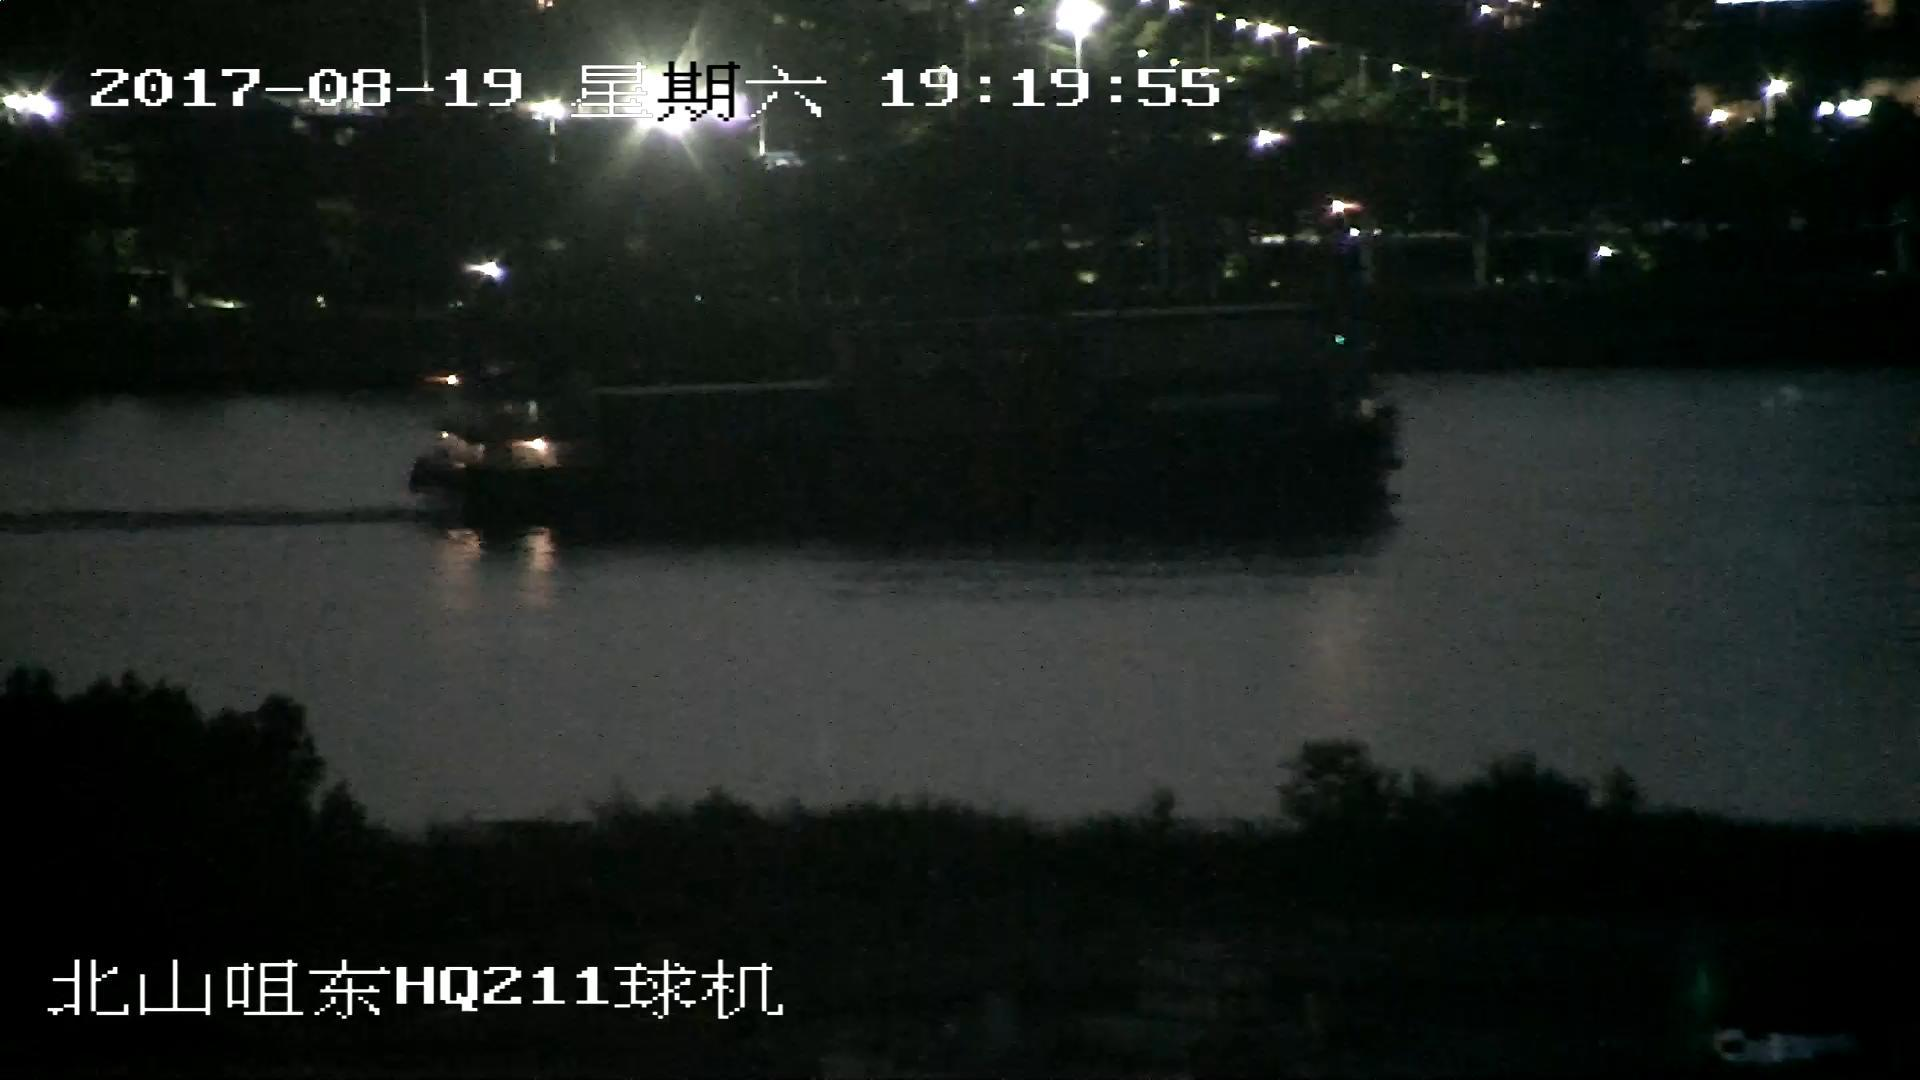Ship: (411, 313, 1400, 563)
